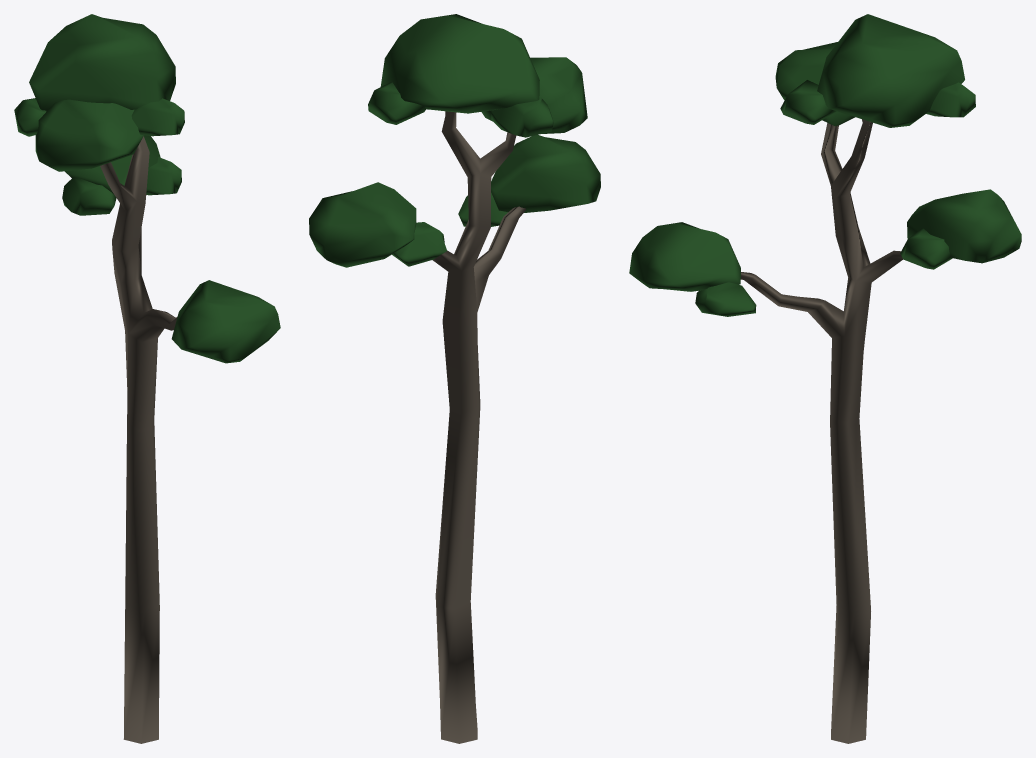
Rendered from Env_Tree_01.fbx.
The picture shows the model from 3 angles, left to right: view 1: azimuth 30°, elevation 25°; view 2: azimuth 150°, elevation 25°; view 3: azimuth 270°, elevation 25°; orthographic projection. The views are drawn at different scales.
Visible parts, largest first — view 1: SM_Env_Tree_01; view 2: SM_Env_Tree_01; view 3: SM_Env_Tree_01.
Part boxes in pixels (bbox=[...]): SM_Env_Tree_01: bbox=[14, 14, 280, 743]; SM_Env_Tree_01: bbox=[309, 14, 600, 743]; SM_Env_Tree_01: bbox=[629, 14, 1021, 743].
Bounding box in the file's own units: 3262 × 11398 × 5824.
